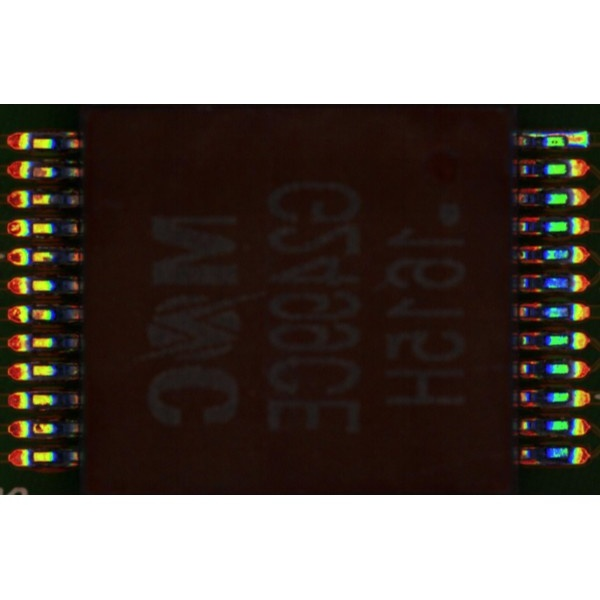Bad_podu: (559, 136, 576, 144)
Bad_qiaojiao: (527, 132, 566, 136)
